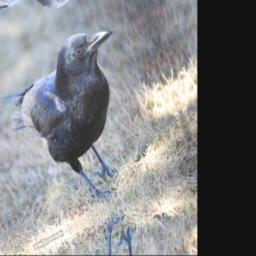Crow: (0, 16, 158, 232)
